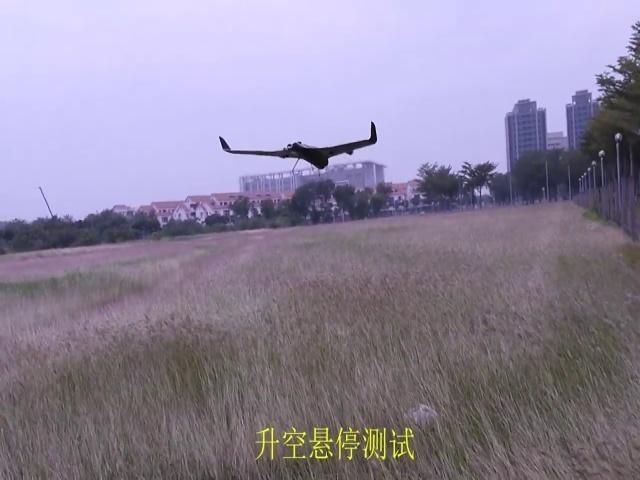Airplane: (219, 121, 378, 170)
